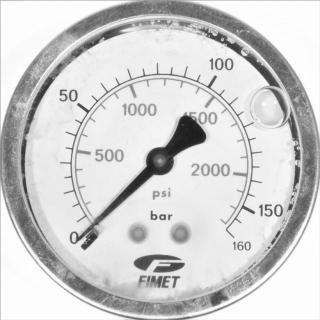gauge: (0, 0, 320, 320), (68, 220, 104, 262), (215, 222, 249, 254), (146, 146, 174, 175), (70, 232, 85, 248)
